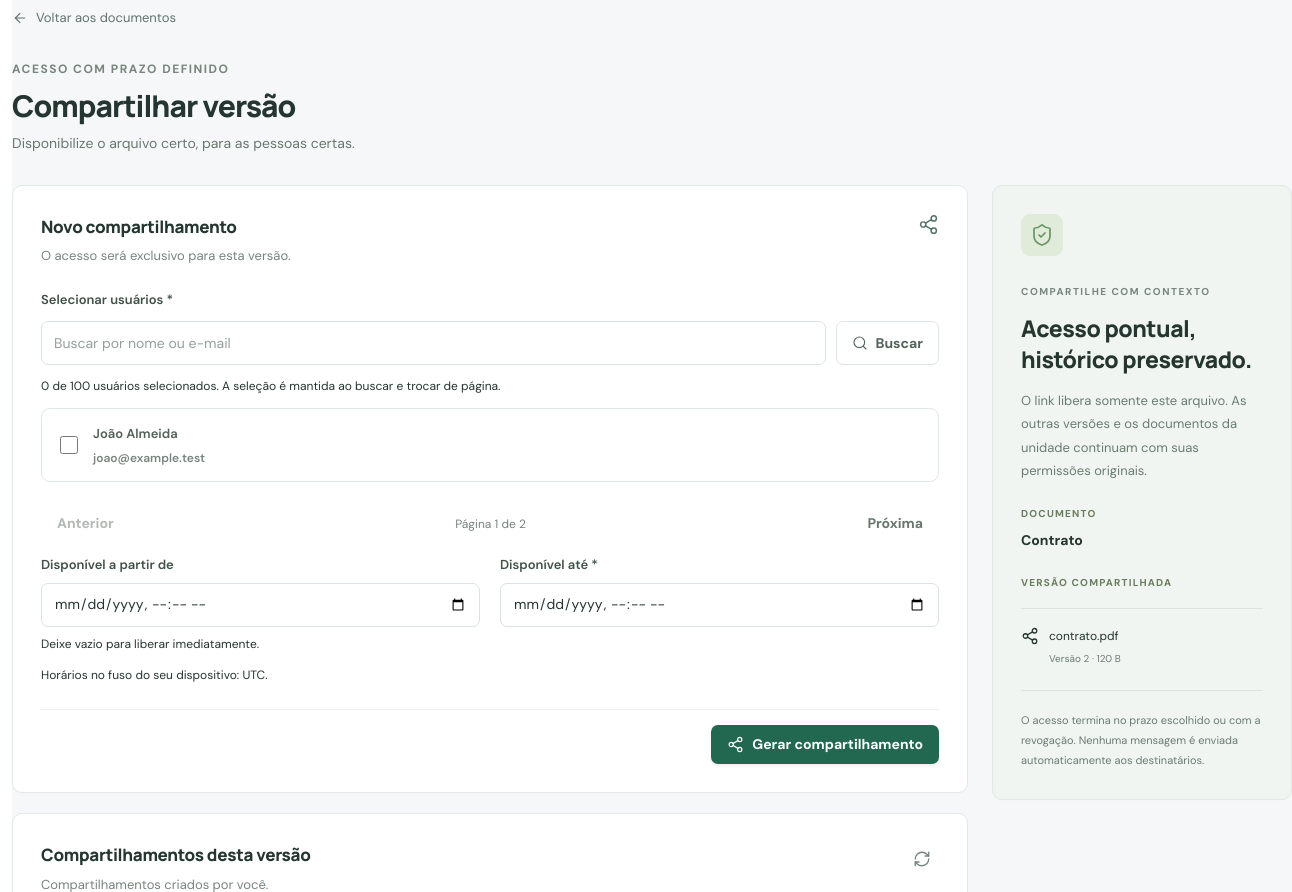
compartilhamento por versão › rejeita ausência de destinatários e expiração anterior ao início sem enviar
In the field with id "share-start": coordinates (260, 605) [41, 583, 480, 627], type "2099-02-01T12:00"
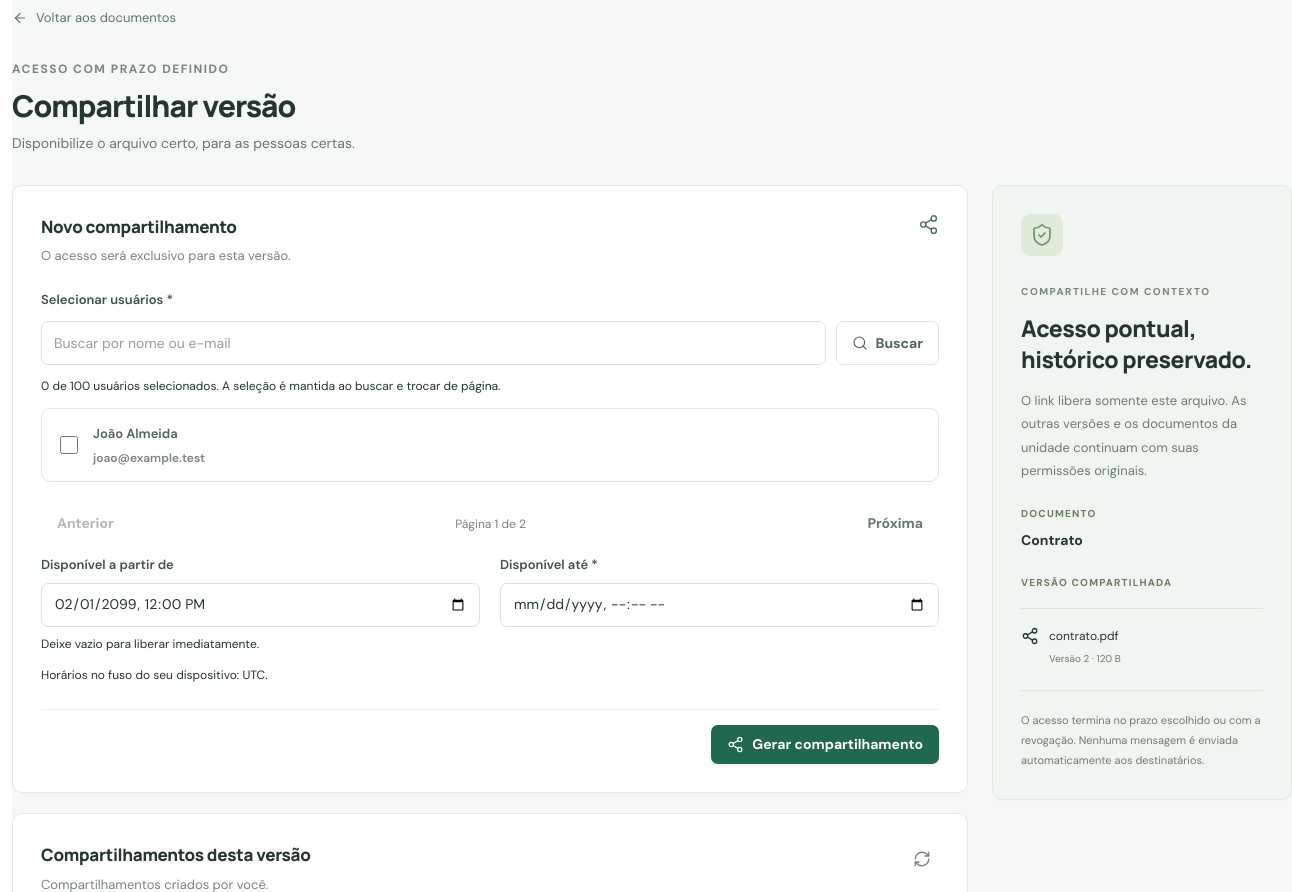
In the field with id "share-expiry": coordinates (720, 605) [500, 583, 939, 627], type "2099-01-01T12:00"
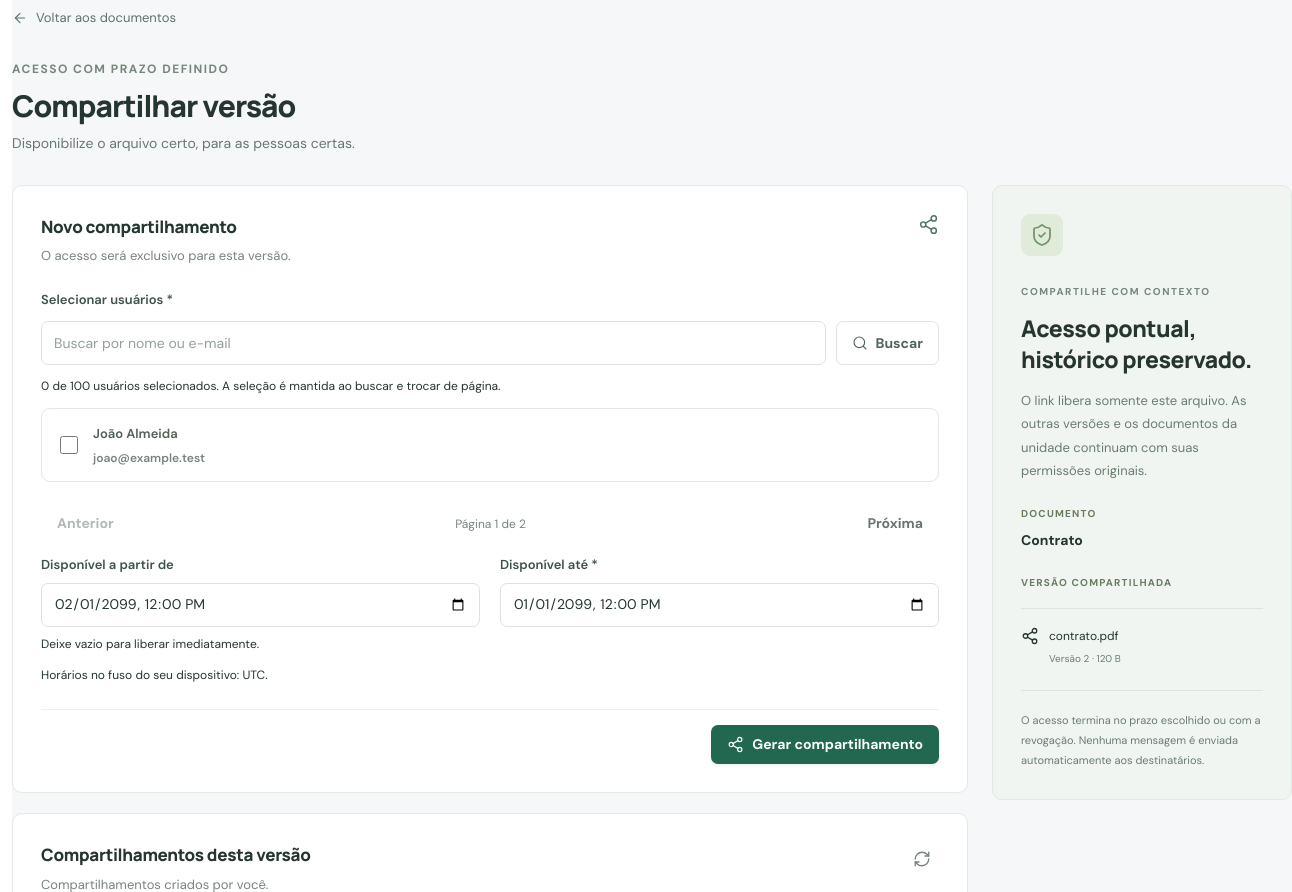
Submit the form, box [12, 185, 968, 793]
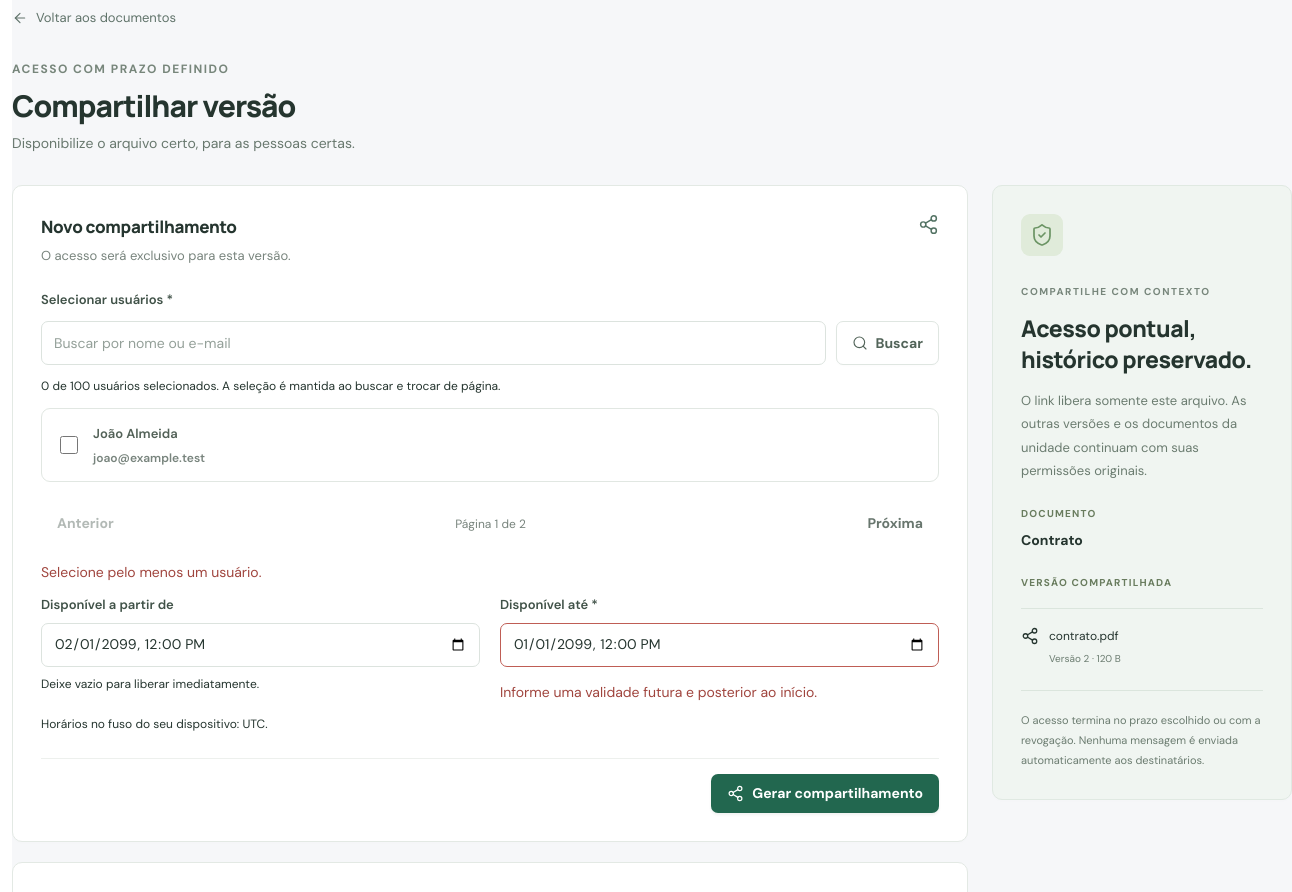
Expected: the text "Selecione pelo menos" is shown, [41, 564, 261, 582]
Expected: the text "posterior ao início" is shown, [500, 683, 817, 701]
